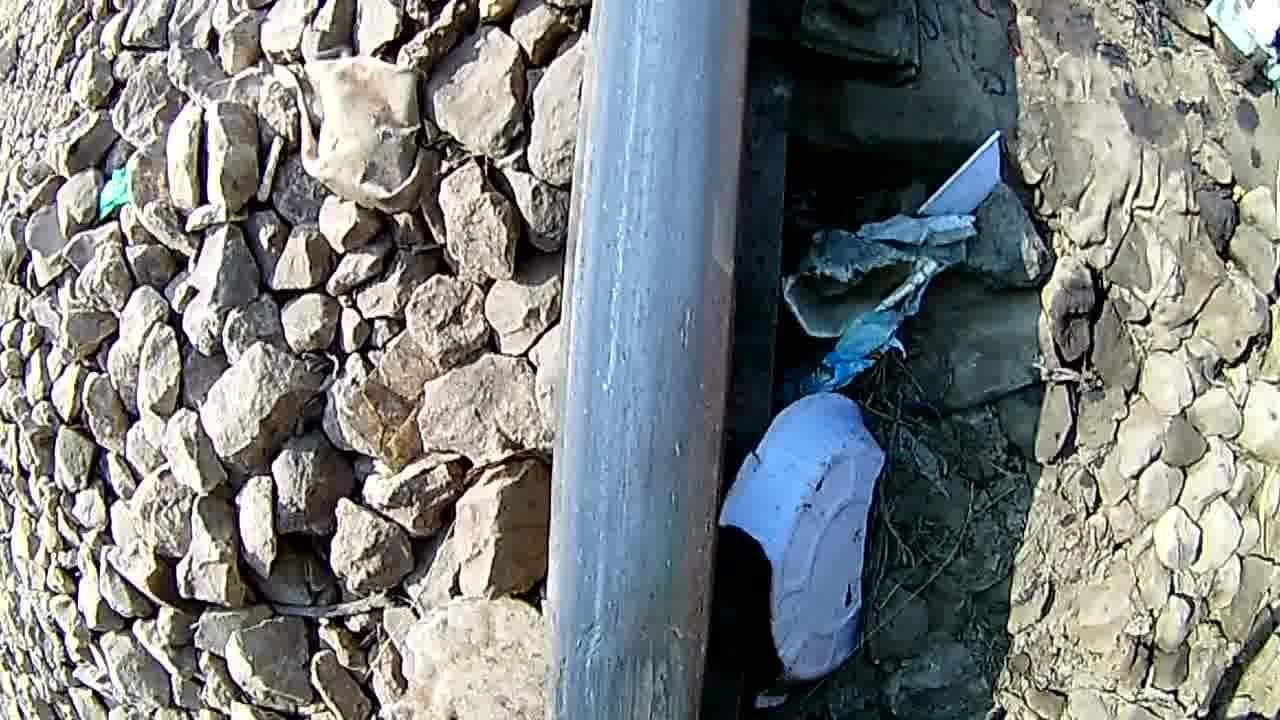bolt_missing: (526, 567, 724, 720)
